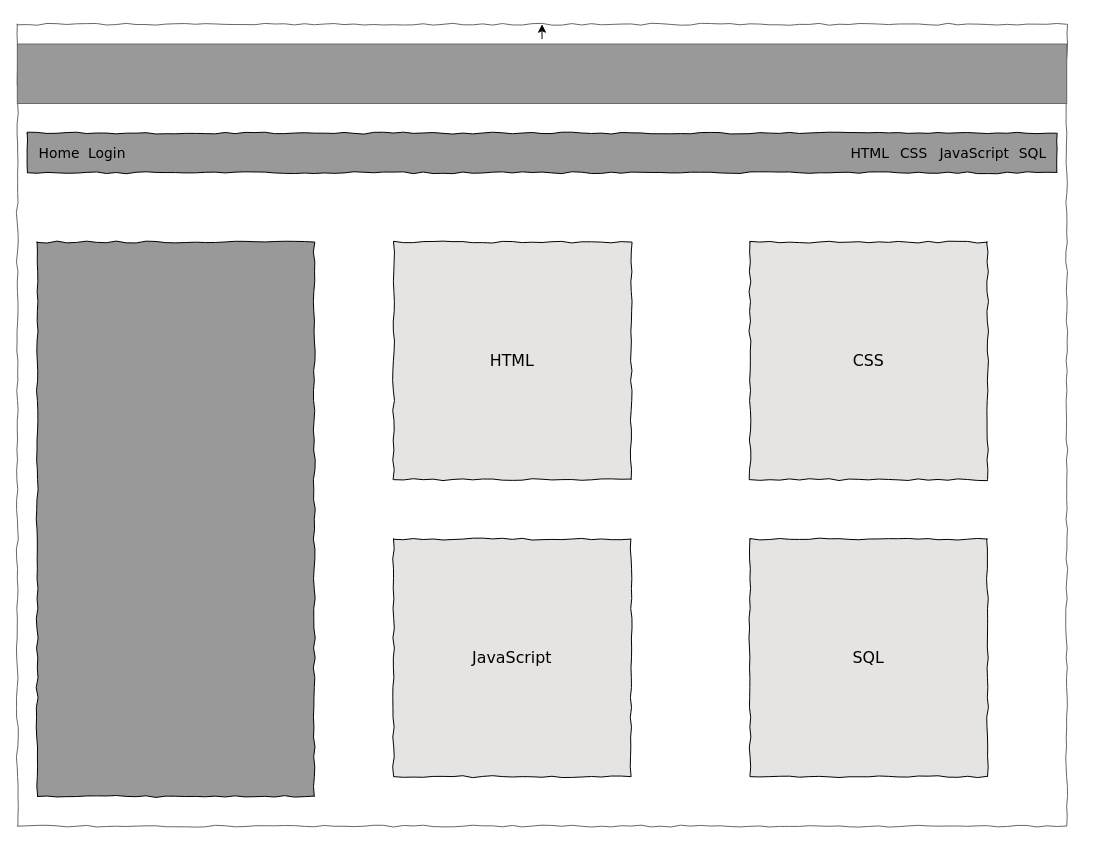
Some shapes in this 1094 by 843 pixel diagram are drawn without their labels. Each missing label, with the centre of its shape:
"Choose a topic to start boosting your web development knowledge." belongs at pixel 175 518.
"Text" belongs at pixel 541 73.
